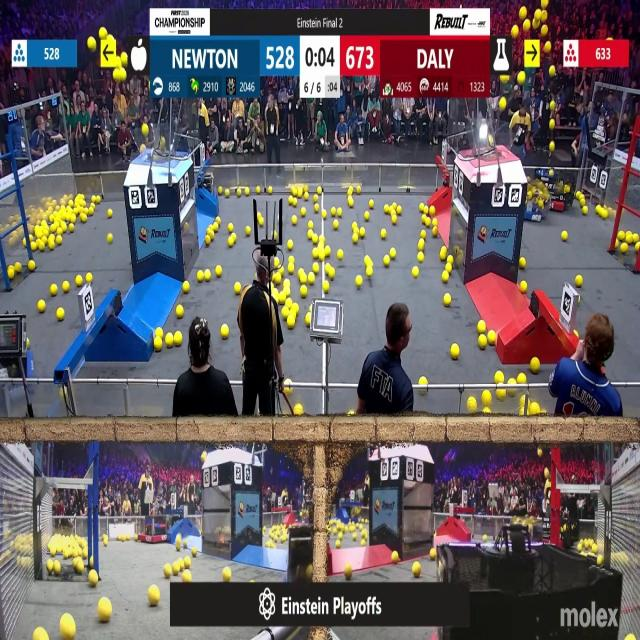ball_airborne: (115, 68, 125, 81), (518, 72, 526, 85), (89, 37, 98, 48), (99, 27, 108, 38), (532, 56, 540, 68), (120, 54, 127, 67), (499, 98, 506, 110), (524, 40, 532, 50), (524, 21, 531, 32), (513, 27, 520, 38), (540, 26, 547, 37), (520, 7, 527, 18), (544, 40, 550, 52), (550, 66, 556, 78), (540, 0, 547, 10), (142, 125, 148, 136), (551, 99, 557, 109), (540, 10, 546, 20), (501, 74, 508, 82), (536, 449, 542, 458), (551, 122, 557, 131), (543, 468, 548, 478), (140, 144, 146, 152), (544, 482, 550, 490), (551, 143, 556, 152), (488, 136, 493, 144), (162, 138, 166, 145)
ball_ground: (61, 617, 76, 640), (99, 599, 112, 622), (148, 586, 159, 606), (90, 570, 99, 586), (467, 397, 476, 412), (345, 562, 353, 578), (174, 333, 182, 348), (414, 562, 422, 577), (34, 630, 46, 640), (488, 332, 496, 346), (531, 358, 539, 372), (220, 324, 228, 338), (165, 564, 173, 578), (163, 335, 171, 349), (76, 560, 84, 574), (182, 570, 191, 582), (273, 272, 282, 284), (176, 306, 184, 319), (154, 338, 162, 351), (478, 321, 486, 334), (484, 391, 492, 404), (452, 345, 459, 359), (58, 309, 66, 321), (222, 568, 230, 580), (479, 337, 487, 349), (298, 271, 305, 284), (308, 274, 316, 285), (495, 372, 503, 383), (322, 281, 330, 292), (498, 389, 506, 400), (575, 275, 582, 287), (38, 301, 45, 313), (445, 293, 452, 305), (287, 316, 294, 328), (299, 285, 306, 297), (235, 282, 242, 294), (55, 562, 62, 574), (173, 562, 180, 574), (518, 374, 526, 384), (293, 407, 301, 417), (284, 287, 292, 297), (29, 262, 36, 273), (195, 272, 202, 283), (81, 549, 88, 560), (626, 233, 633, 244), (392, 552, 398, 564), (356, 276, 362, 288), (76, 276, 82, 288), (521, 281, 527, 293), (182, 281, 188, 293), (46, 560, 52, 572), (419, 377, 426, 387), (418, 241, 425, 251), (155, 327, 162, 337), (363, 255, 370, 265), (621, 244, 628, 254), (62, 222, 69, 232), (279, 294, 286, 304), (632, 234, 639, 244), (285, 296, 292, 306), (50, 284, 56, 295), (520, 257, 526, 268), (384, 255, 390, 266), (216, 267, 222, 278), (390, 248, 396, 259), (64, 282, 70, 293), (8, 269, 14, 280), (274, 256, 280, 267), (313, 248, 319, 259), (205, 271, 211, 282), (579, 197, 585, 208), (602, 208, 608, 219), (307, 313, 312, 326), (618, 233, 626, 241), (47, 242, 54, 251), (292, 305, 299, 314), (562, 232, 568, 242), (338, 250, 344, 260), (444, 273, 450, 283), (88, 274, 94, 284), (184, 558, 190, 568), (227, 222, 233, 232), (413, 268, 419, 278), (227, 238, 233, 248), (328, 270, 334, 280), (365, 268, 371, 278), (381, 230, 387, 240), (352, 235, 358, 245), (429, 550, 435, 560), (57, 236, 63, 246), (14, 264, 20, 274), (441, 250, 447, 260), (282, 309, 288, 319), (31, 242, 37, 252), (90, 558, 96, 568), (312, 235, 318, 245), (331, 220, 338, 228), (616, 241, 621, 252), (418, 252, 424, 261), (313, 265, 319, 274), (596, 207, 602, 216), (283, 279, 289, 288), (396, 206, 402, 215), (49, 223, 55, 232), (274, 287, 280, 296), (108, 234, 113, 244), (287, 240, 292, 250), (288, 265, 293, 275), (349, 198, 354, 208), (324, 246, 329, 256), (39, 242, 44, 252), (243, 226, 249, 234), (291, 216, 297, 224), (391, 215, 397, 223), (299, 208, 305, 216), (363, 212, 369, 220), (448, 255, 454, 263), (352, 222, 358, 230), (583, 207, 589, 215), (314, 205, 320, 213), (425, 218, 431, 226), (69, 223, 75, 231), (429, 208, 435, 216), (484, 409, 492, 415), (208, 233, 214, 241), (23, 239, 29, 247), (348, 187, 354, 195), (108, 209, 113, 218), (258, 217, 263, 226), (447, 265, 452, 274), (359, 229, 364, 238), (338, 208, 343, 217), (635, 243, 640, 252), (191, 546, 196, 555), (420, 204, 425, 213), (319, 251, 324, 260), (232, 234, 237, 243), (340, 534, 345, 543), (80, 215, 86, 222), (90, 208, 96, 215), (237, 189, 243, 196), (244, 188, 250, 195), (70, 215, 76, 222), (176, 535, 182, 542), (284, 387, 290, 394), (308, 306, 314, 313), (361, 531, 367, 538), (309, 232, 314, 240), (337, 539, 342, 547), (421, 232, 426, 240), (331, 208, 336, 216), (309, 220, 314, 228), (305, 192, 310, 200), (314, 194, 319, 202), (93, 194, 98, 202), (215, 216, 220, 224), (319, 236, 324, 244), (322, 210, 326, 219), (432, 229, 436, 238), (292, 199, 296, 208), (218, 186, 222, 195), (288, 255, 293, 262), (224, 189, 229, 196), (269, 186, 274, 193), (628, 635, 635, 640), (255, 186, 260, 193), (356, 186, 361, 193), (368, 201, 372, 209), (385, 206, 389, 214), (275, 232, 279, 240), (213, 223, 217, 231), (97, 197, 101, 205), (104, 538, 108, 546), (177, 543, 181, 550), (361, 539, 365, 546), (432, 218, 436, 225), (353, 533, 357, 540), (184, 539, 188, 545), (268, 541, 272, 547), (484, 535, 488, 541)
goal: (466, 125, 519, 160), (128, 130, 187, 160)
robot_blue: (524, 178, 550, 224)
robot_red: (547, 174, 573, 212), (138, 516, 168, 542)
